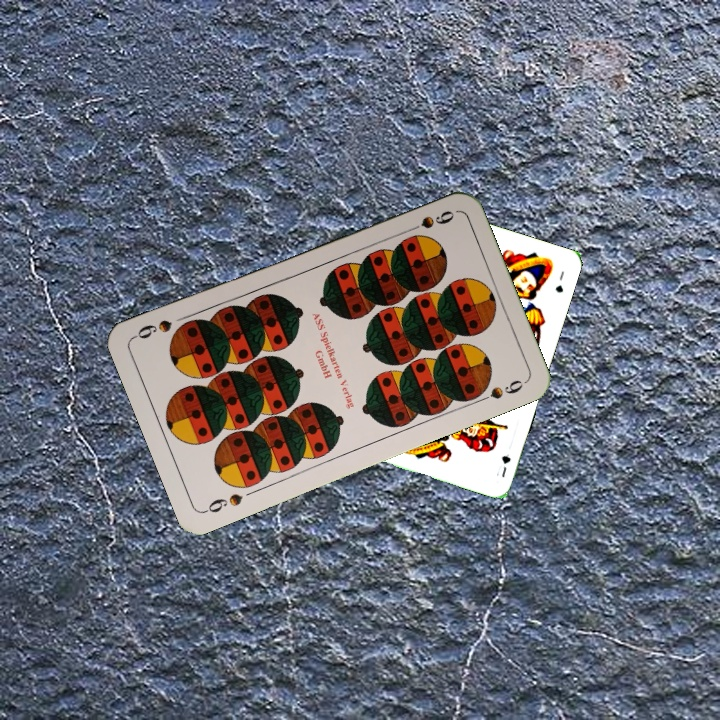GU: (492, 450, 513, 480)
S9: (400, 206, 457, 237), (200, 489, 246, 516)
